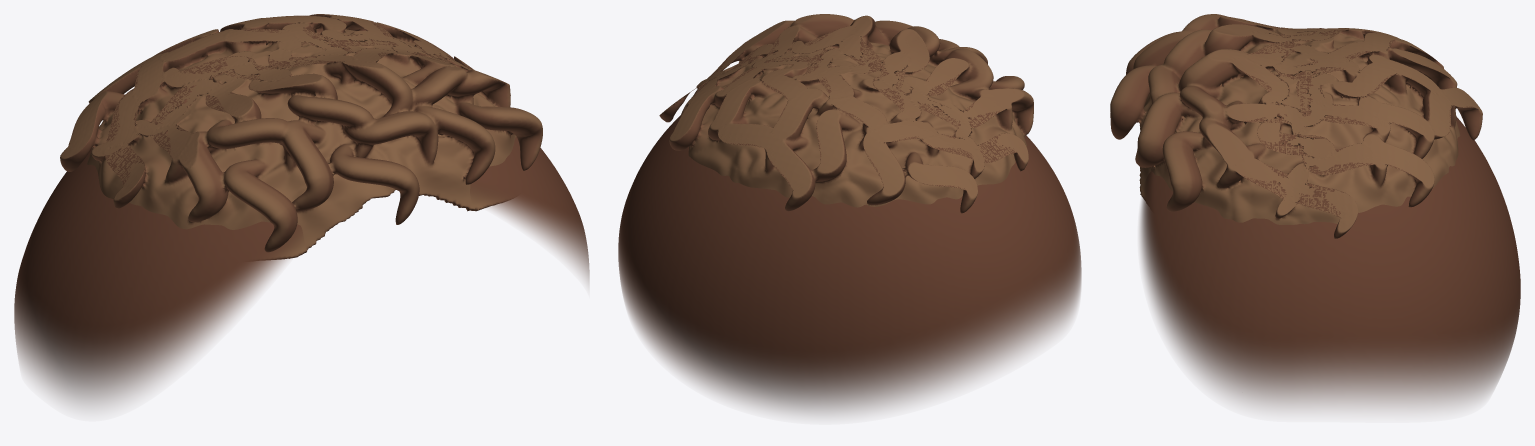
Rendered from Highlights-d300b2738454252-hair.glb.
3 views of the same model, side by side, from view 1: azimuth 30°, elevation 25°; view 2: azimuth 150°, elevation 25°; view 3: azimuth 270°, elevation 25° (orthographic). The views are drawn at different scales.
Visible parts, largest first — view 1: 226 hair / Hair252 / sculpted curl groups.001, 226 hair / Hair252 / curly close fade coverage.001; view 2: 226 hair / Hair252 / curly close fade coverage.001, 226 hair / Hair252 / sculpted curl groups.001; view 3: 226 hair / Hair252 / curly close fade coverage.001, 226 hair / Hair252 / sculpted curl groups.001.
Part boxes in pixels (x1,y1,x2,y2): 226 hair / Hair252 / sculpted curl groups.001: [60, 14, 542, 260]; 226 hair / Hair252 / curly close fade coverage.001: [14, 137, 589, 406]; 226 hair / Hair252 / curly close fade coverage.001: [618, 115, 1081, 414]; 226 hair / Hair252 / sculpted curl groups.001: [659, 14, 1033, 213]; 226 hair / Hair252 / curly close fade coverage.001: [1140, 116, 1520, 409]; 226 hair / Hair252 / sculpted curl groups.001: [1110, 14, 1482, 238].
Bounding box in the file's own units: 0.976 × 0.697 × 0.762.
Materials: 2 (2 with a texture image).
